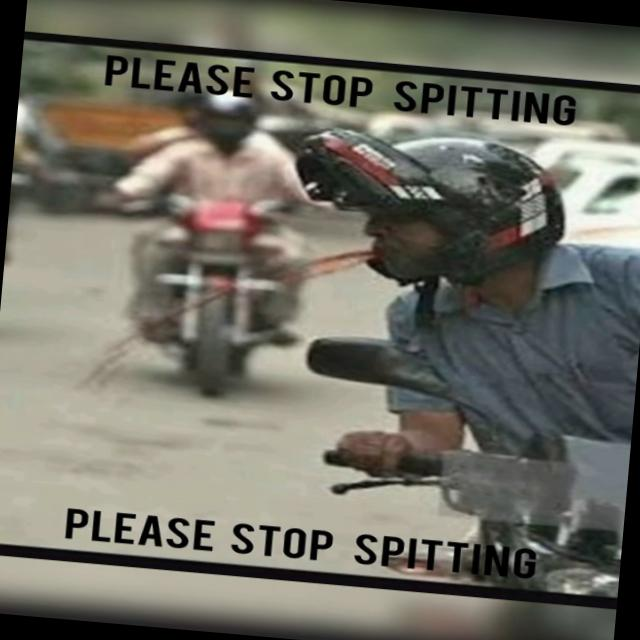spit: (40, 212, 409, 420)
